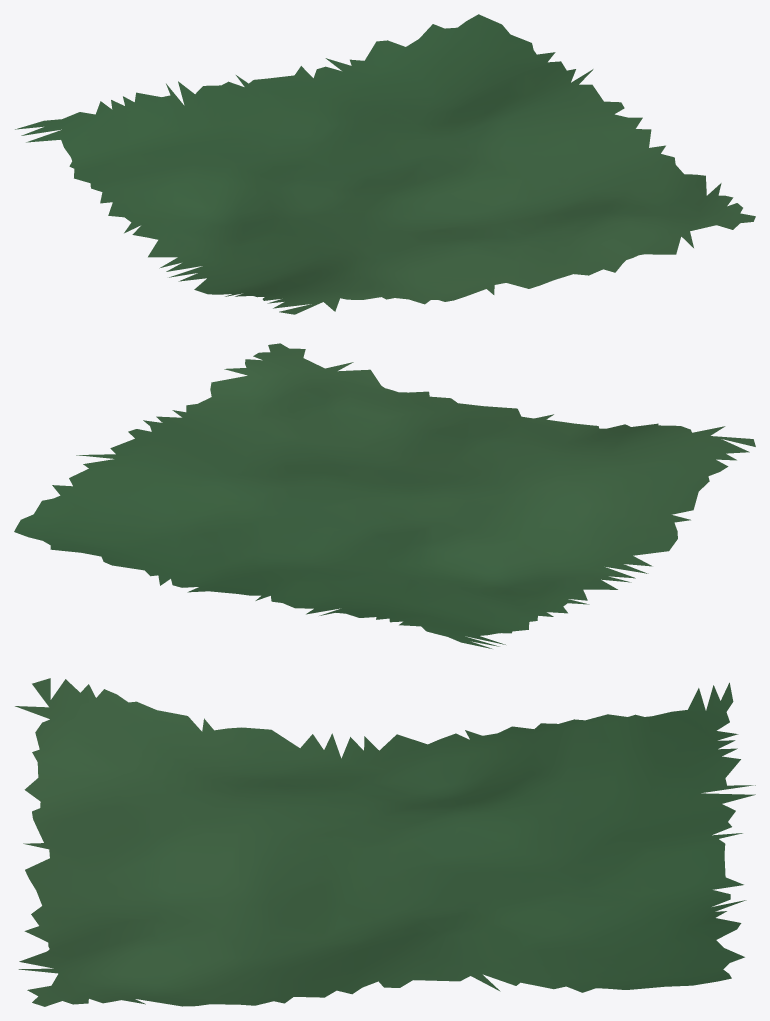
The model's file is payo_land_x1_y8_lod1.glb.
3 views of the same model, one above another, from view 1: azimuth 30°, elevation 25°; view 2: azimuth 150°, elevation 25°; view 3: azimuth 270°, elevation 25° (orthographic). The views are drawn at different scales.
Parts seen in each view (by area): view 1: payo_land_x1_y8; view 2: payo_land_x1_y8; view 3: payo_land_x1_y8.
Part boxes in pixels (x1,y1,x2,y2): payo_land_x1_y8: (15,14,755,314); payo_land_x1_y8: (14,343,755,648); payo_land_x1_y8: (15,678,755,1006).
Bounding box in the file's own units: 277 × 23.74 × 275.
